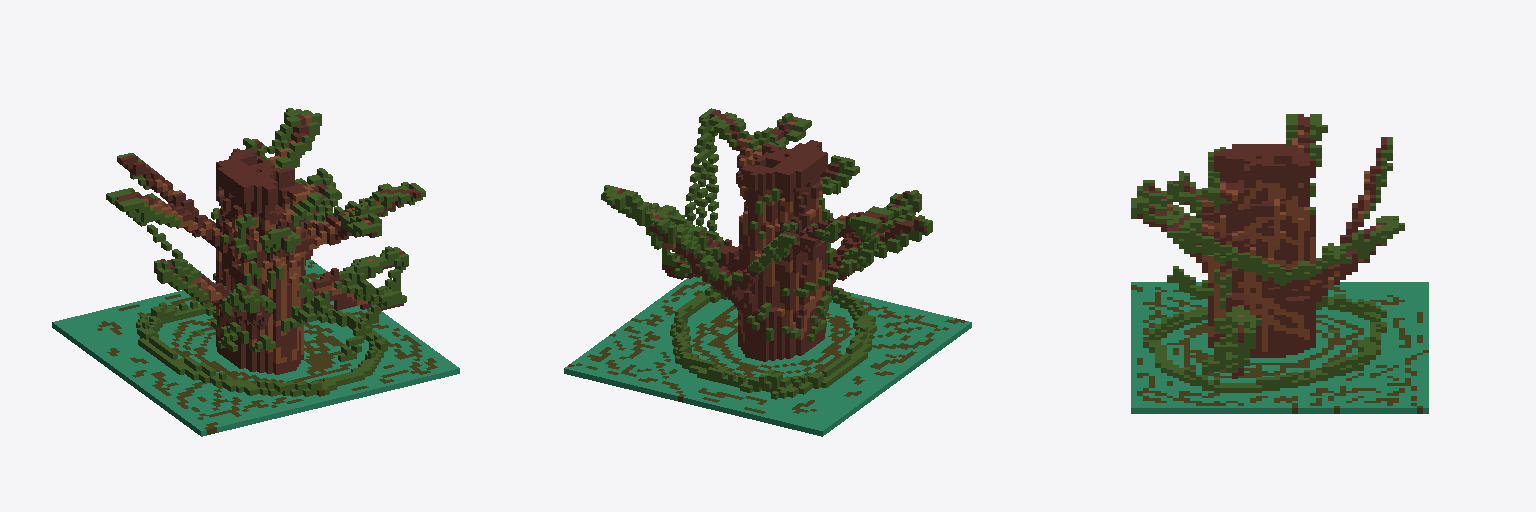
3 views of the same model, side by side, from view 1: azimuth 30°, elevation 25°; view 2: azimuth 150°, elevation 25°; view 3: azimuth 270°, elevation 25° (orthographic).
Visible parts, largest first — view 1: object 1; view 2: object 1; view 3: object 1.
Part boxes in pixels (x1,y1,x2,y2): object 1: (52,108,459,436); object 1: (564,108,971,436); object 1: (1131,114,1428,413).
Bounding box in the file's own units: 5 × 3.5 × 5.
Materials: 1 (1 with a texture image).